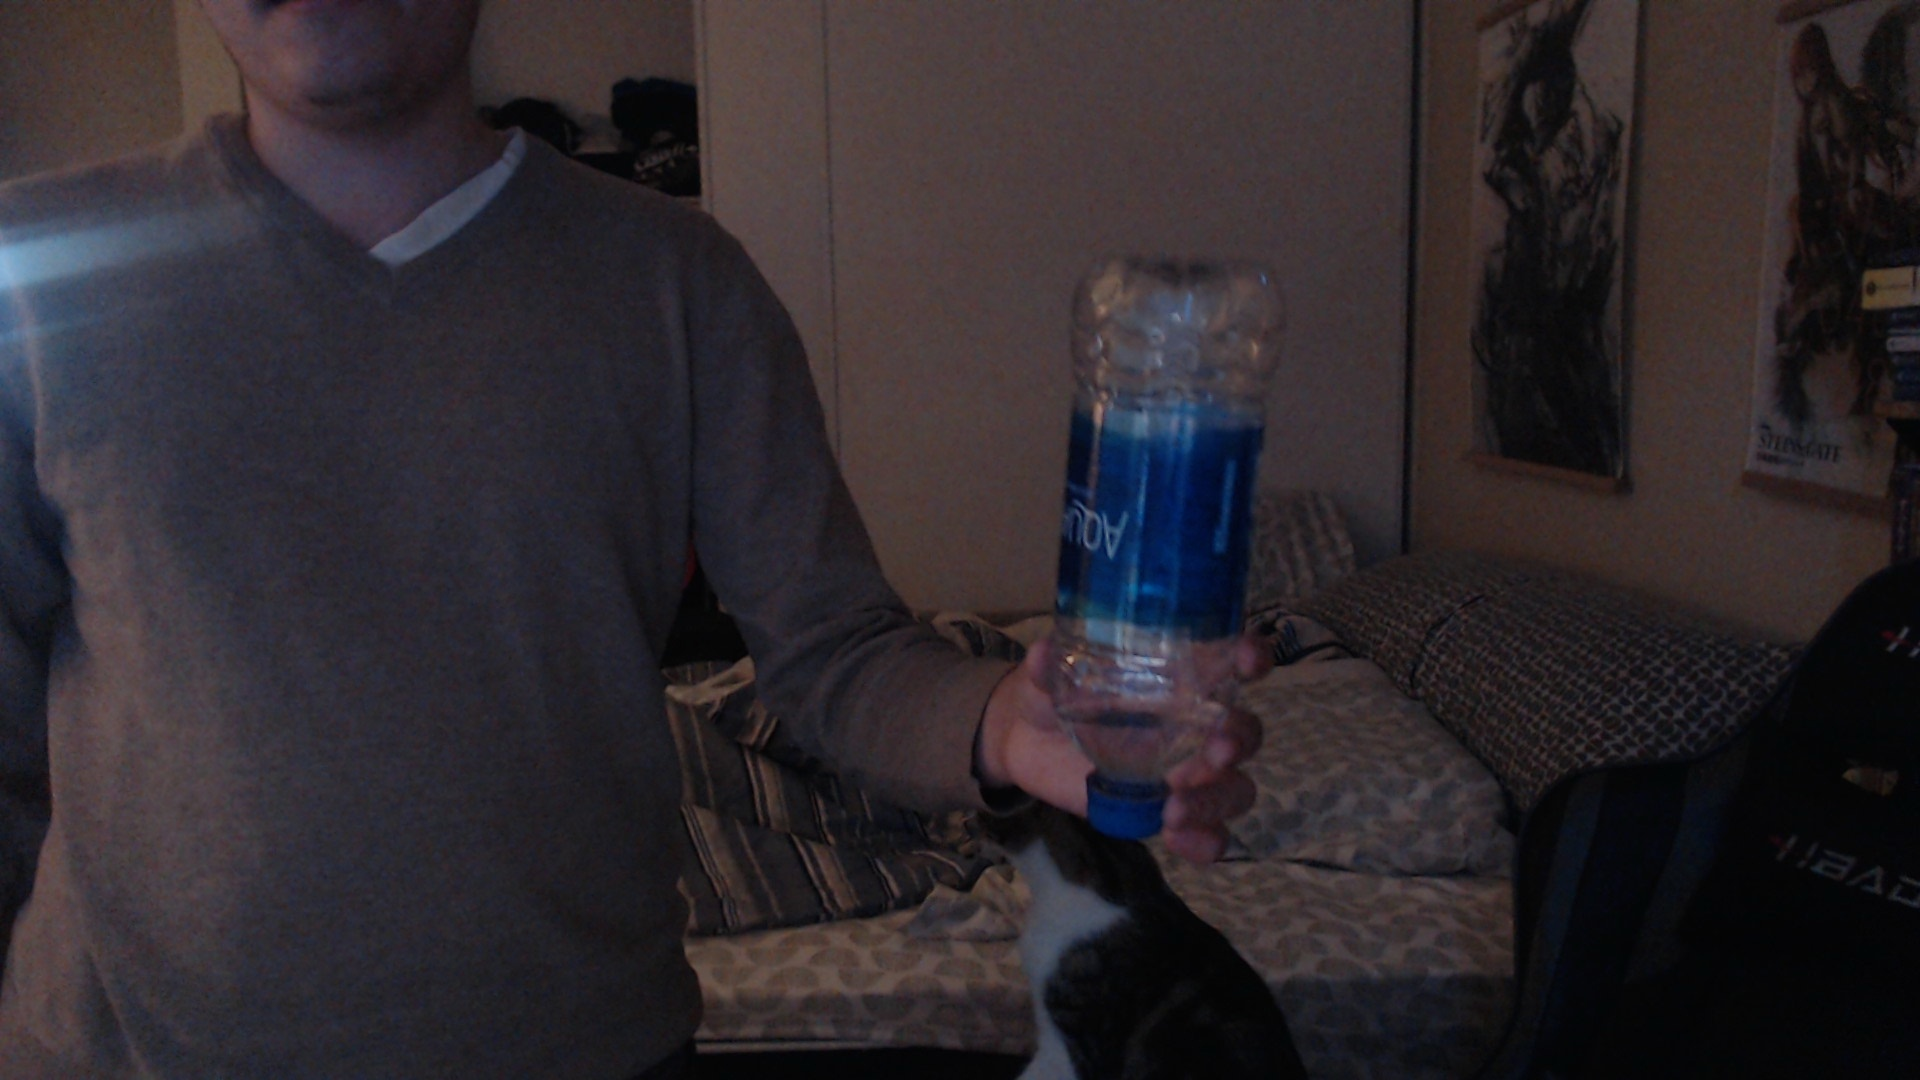bottle: (1044, 237, 1286, 847)
